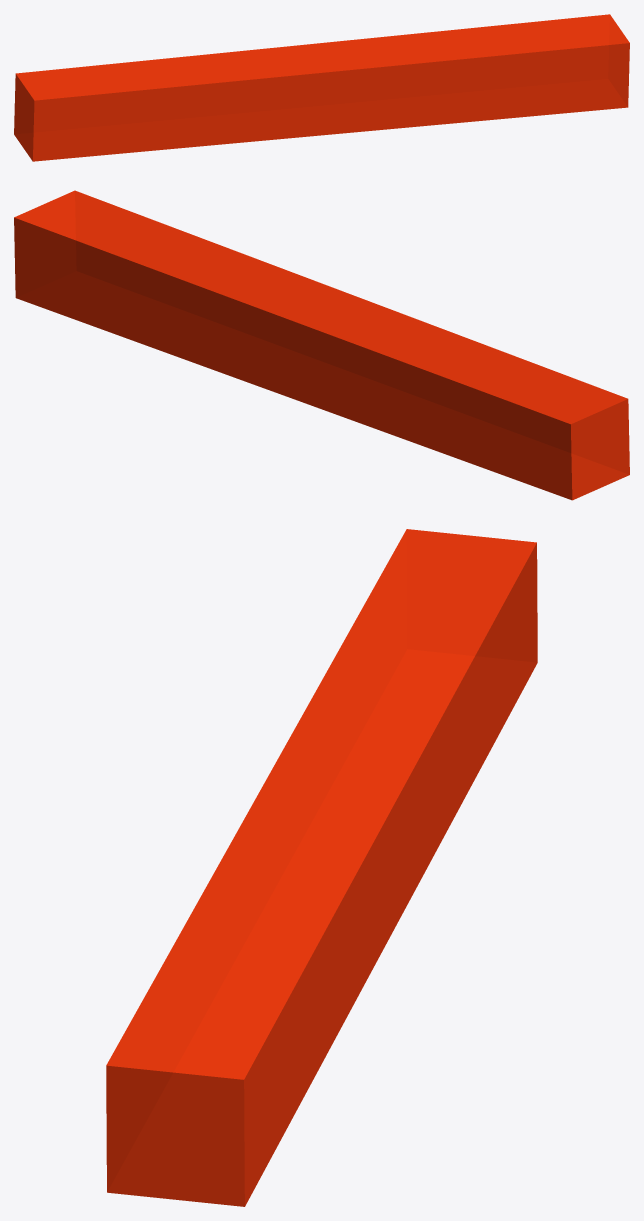
Rendered from Event_421278790_EErechit_49.fbx.
The picture shows the model from 3 angles, top to bottom: view 1: azimuth 30°, elevation 25°; view 2: azimuth 150°, elevation 25°; view 3: azimuth 270°, elevation 25°; orthographic projection. The views are drawn at different scales.
Parts seen in each view (by area): view 1: Model; view 2: Model; view 3: Model.
Part boxes in pixels (<box>): Model: <box>14,14,629,161</box>; Model: <box>14,190,629,500</box>; Model: <box>106,529,537,1206</box>.
Size of the model in its own units: 0.67 by 0.0939 by 0.2334.
